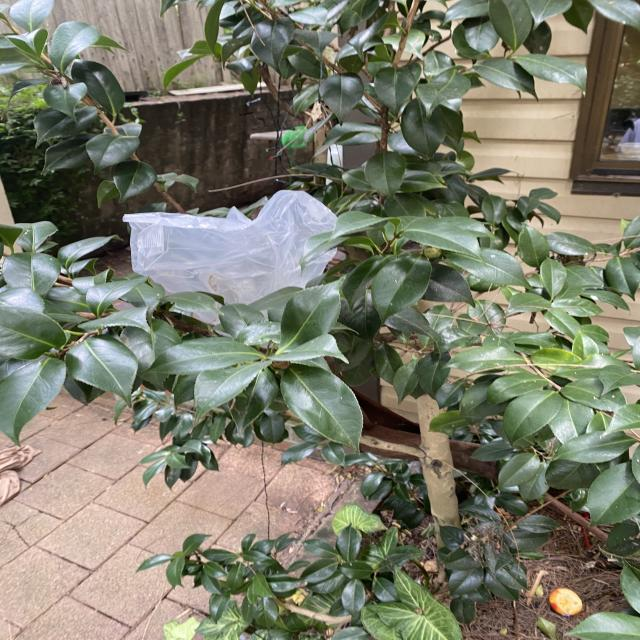bag: (123, 189, 338, 304)
